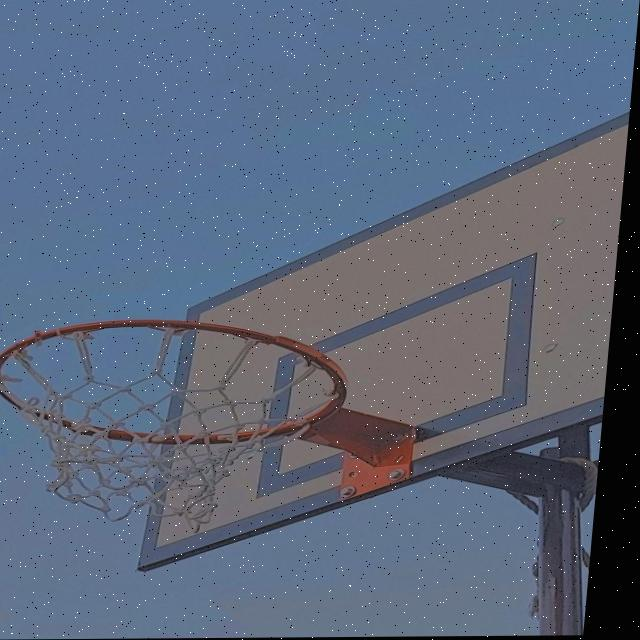hoop: (0, 302, 451, 523)
